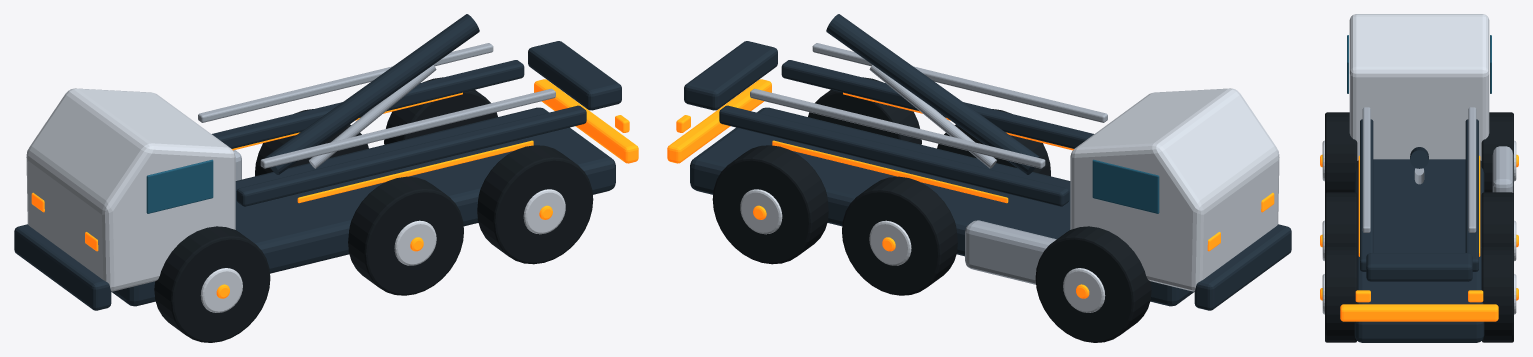
Rendered from repsa-rolloff-concept.glb.
3 renders of one model, left to right at view 1: azimuth 30°, elevation 25°; view 2: azimuth 150°, elevation 25°; view 3: azimuth 270°, elevation 25°, orthographic. The views are drawn at different scales.
Visible parts, largest first — view 1: REPSA cab, Main chassis, Truck tire.002, Truck tire.004, Truck tire, Roll off rail, Hydraulic arm, Roll off rail.001, Rear hook, Front bumper, Safety rail, Driver window (+9 smaller); view 2: REPSA cab, Main chassis, Truck tire.003, Truck tire.005, Truck tire.001, Roll off rail.001, Hydraulic arm, Roll off rail, Fuel tank, Rear hook, Front bumper, Safety rail.001 (+10 smaller); view 3: REPSA cab, Main chassis, Rear hook, Truck tire.004, Truck tire.005, Rear hazard bar, Truck tire, Truck tire.002, Truck tire.003, Truck tire.001, Roll off rail, Roll off rail.001 (+8 smaller).
Boxes of the visible parts, x1,y1,x2,y2 form: REPSA cab: [26, 88, 235, 291]; Main chassis: [111, 107, 615, 306]; Truck tire.002: [348, 176, 463, 295]; Truck tire.004: [477, 145, 593, 264]; Truck tire: [154, 226, 270, 342]; Roll off rail: [236, 105, 586, 206]; Hydraulic arm: [265, 14, 479, 174]; Roll off rail.001: [212, 60, 524, 148]; Rear hook: [528, 41, 621, 110]; Front bumper: [14, 224, 111, 310]; Safety rail: [260, 88, 555, 168]; Driver window: [146, 159, 213, 213]; REPSA cab: [1070, 88, 1279, 291]; Main chassis: [690, 107, 1194, 306]; Truck tire.003: [842, 176, 957, 295]; Truck tire.005: [712, 145, 828, 264]; Truck tire.001: [1035, 226, 1151, 342]; Roll off rail.001: [719, 105, 1069, 206]; Hydraulic arm: [826, 14, 1040, 174]; Roll off rail: [781, 60, 1093, 148]; Fuel tank: [965, 220, 1056, 284]; Rear hook: [684, 41, 777, 110]; Front bumper: [1194, 224, 1291, 310]; Safety rail.001: [750, 88, 1045, 168]; REPSA cab: [1349, 14, 1489, 160]; Main chassis: [1354, 159, 1484, 342]; Rear hook: [1366, 253, 1472, 281]; Truck tire.004: [1325, 245, 1357, 342]; Truck tire.005: [1481, 245, 1513, 342]; Rear hazard bar: [1340, 304, 1498, 321]; Truck tire: [1325, 112, 1357, 193]; Truck tire.002: [1325, 192, 1357, 246]; Truck tire.003: [1481, 192, 1513, 246]; Truck tire.001: [1481, 112, 1513, 193]; Roll off rail: [1360, 119, 1373, 271]; Roll off rail.001: [1465, 119, 1478, 271].
Bounding box in the file's own units: 6.19 × 2.33 × 2.33.
